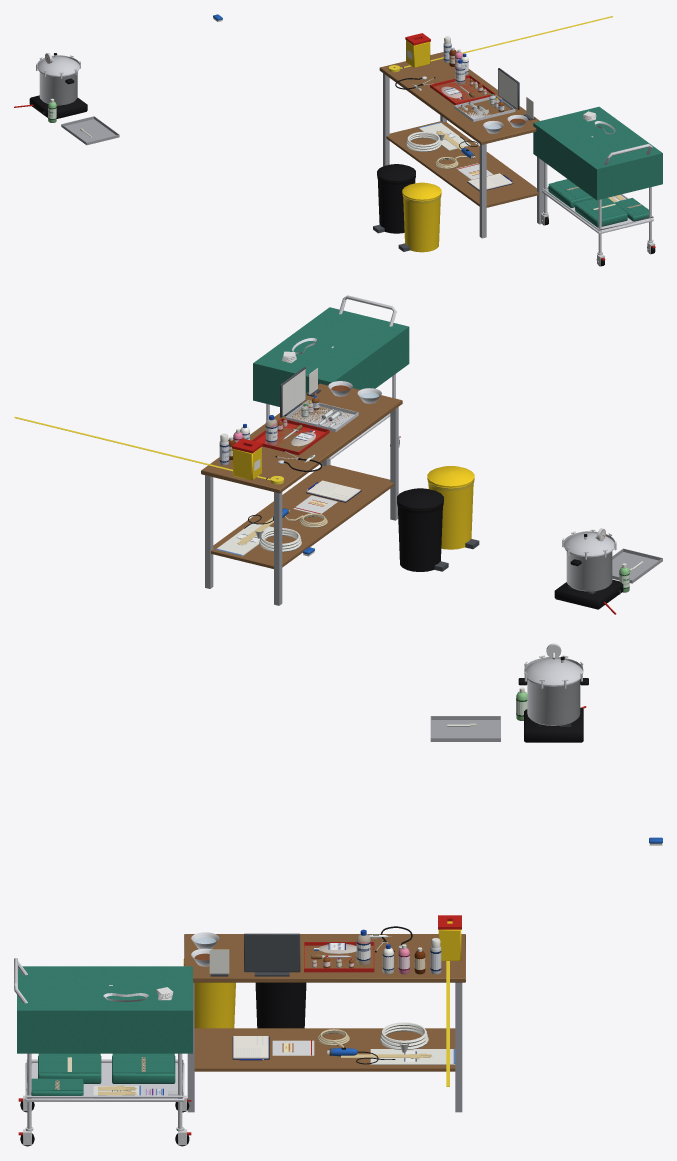
File: kit-BQXJ_6Np.glb
3 views of the same model, one above another, from view 1: azimuth 30°, elevation 25°; view 2: azimuth 150°, elevation 25°; view 3: azimuth 270°, elevation 25° (orthographic). The views are drawn at different scales.
Parts seen in each view (by area): view 1: SET_bench, SET_drape_trolley, BIN_clinical, SET_autoclave, SET_trolley, BIN_general, SET_instr_tray_dirty, SET_emergency_tray, AC_lid, BIN_clinical_lid, BIN_general_lid, SET_sharps (+6 smaller); view 2: SET_bench, SET_drape_trolley, SET_autoclave, BIN_general, BIN_clinical, SET_drug_tray, SET_instr_tray_dirty, AC_lid, SET_emergency_tray, BIN_clinical_lid, BIN_general_lid, SET_trolley (+6 smaller); view 3: SET_bench, SET_drape_trolley, SET_trolley, SET_autoclave, SET_count_board, BIN_general, BIN_clinical, SET_instr_tray_dirty, AC_lid, ITEM_sleeve_pack, PACK_spare_flap_far, PACK_lap_flap_far (+2 smaller).
Boxes of the visible parts, <box> form: SET_bench: <box>379,52,543,238</box>; SET_drape_trolley: <box>533,106,662,200</box>; BIN_clinical: <box>398,195,441,252</box>; SET_autoclave: <box>14,54,87,118</box>; SET_trolley: <box>541,143,655,266</box>; BIN_general: <box>373,176,415,233</box>; SET_instr_tray_dirty: <box>61,116,119,145</box>; SET_emergency_tray: <box>430,75,495,105</box>; AC_lid: <box>37,53,79,75</box>; BIN_clinical_lid: <box>402,182,441,200</box>; BIN_general_lid: <box>377,164,415,182</box>; SET_sharps: <box>406,40,430,67</box>; SET_bench: <box>201,383,402,605</box>; SET_drape_trolley: <box>253,307,409,406</box>; SET_autoclave: <box>554,529,623,614</box>; BIN_general: <box>397,502,448,571</box>; BIN_clinical: <box>427,480,479,549</box>; SET_drug_tray: <box>285,400,358,432</box>; SET_instr_tray_dirty: <box>612,548,662,583</box>; AC_lid: <box>564,531,614,555</box>; SET_emergency_tray: <box>251,418,329,455</box>; BIN_clinical_lid: <box>427,466,474,487</box>; BIN_general_lid: <box>397,488,443,510</box>; SET_trolley: <box>266,295,400,464</box>; SET_bench: <box>184,934,465,1112</box>; SET_drape_trolley: <box>17,966,192,1053</box>; SET_trolley: <box>14,958,191,1146</box>; SET_autoclave: <box>518,655,588,742</box>; SET_count_board: <box>244,933,300,976</box>; BIN_general: <box>255,982,306,1028</box>; BIN_clinical: <box>194,982,235,1028</box>; SET_instr_tray_dirty: <box>430,716,500,741</box>; AC_lid: <box>524,652,583,685</box>; ITEM_sleeve_pack: <box>370,1049,455,1064</box>; PACK_spare_flap_far: <box>112,1056,174,1072</box>; PACK_lap_flap_far: <box>38,1056,100,1072</box>.
Size of the model in its own units: 4.98 by 1.4 by 3.69.
65 materials, 9 textured.
